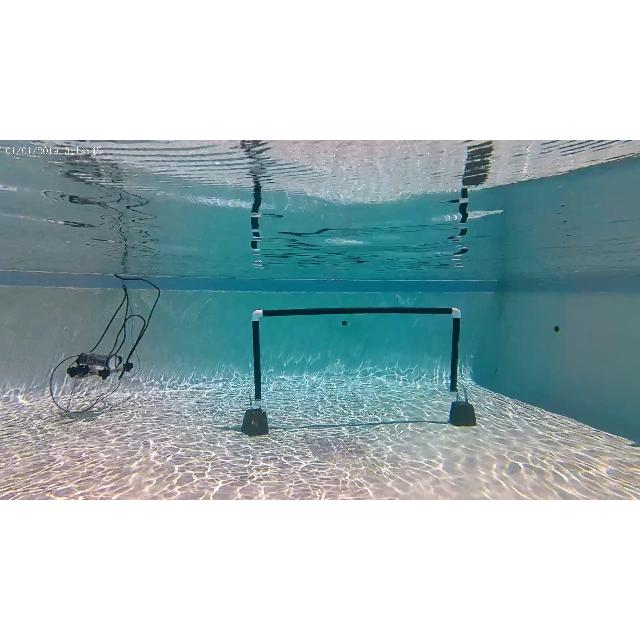prequal gate: (253, 306, 462, 408)
prequal gate leg l: (246, 308, 272, 432)
prequal gate leg r: (447, 307, 477, 423)
